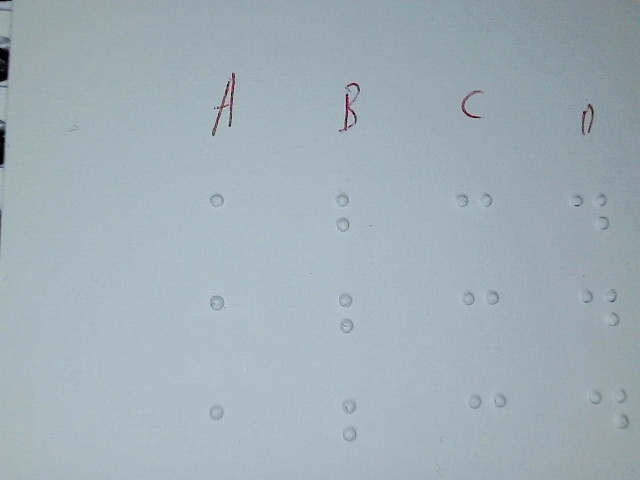A: (200, 183, 254, 268), (200, 283, 254, 368)
B: (327, 183, 378, 268), (329, 282, 380, 367)
C: (450, 183, 500, 263), (456, 282, 506, 362), (463, 384, 513, 464)
